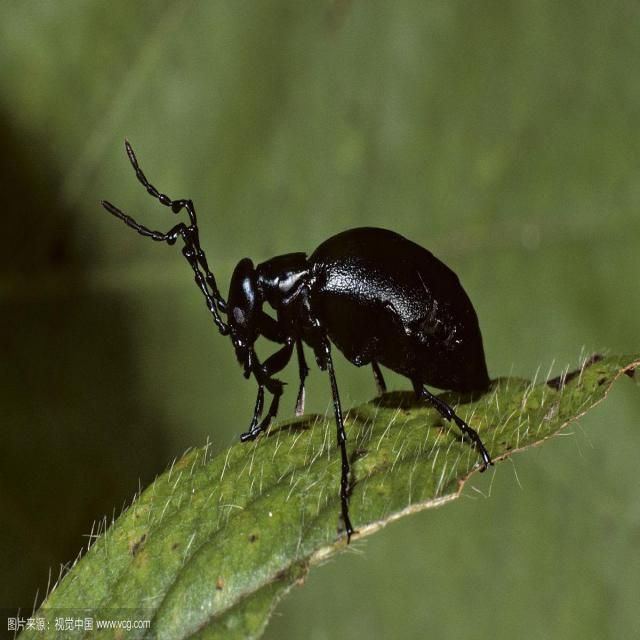BlisterBeetle-Adult-: (92, 129, 496, 495)
